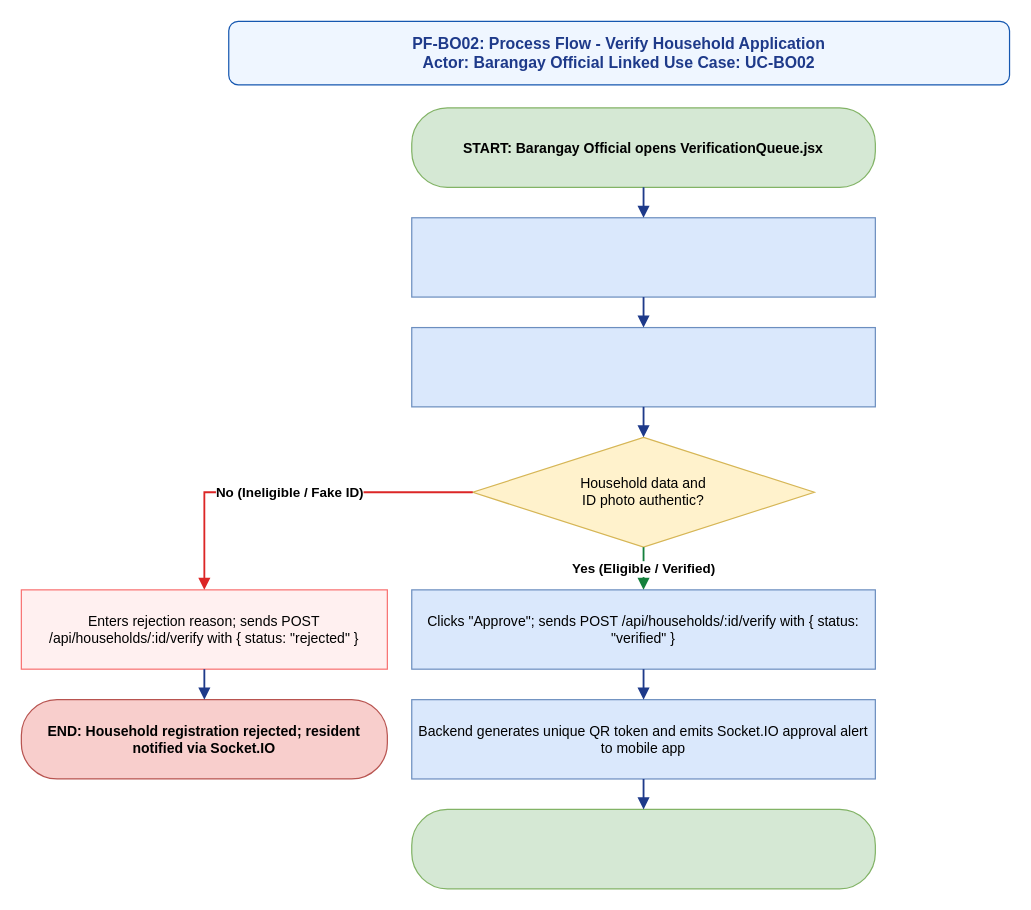
This 1031x910 diagram has some shape labels left out. Each missing label, with the centre of its shape:
"END: Household verified; QR Relief Pass activated for resident (PF-R05)" belongs at point 643,848.
"Official inspects submitted family roster and government ID photo" belongs at point 643,366.
"Page calls GET /api/households/pending to fetch pending applicants" belongs at point 643,257.
